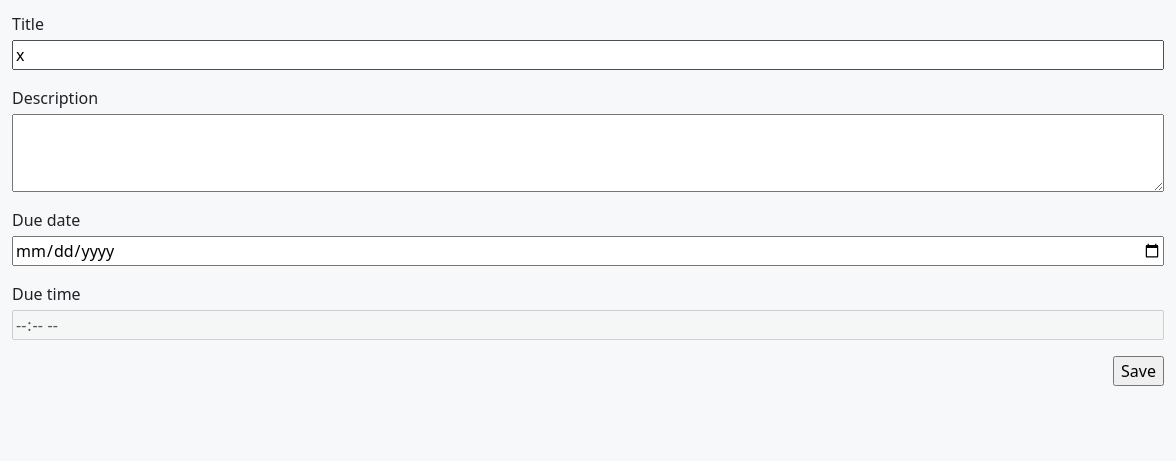
Test case: TodoForm › shows an API error without field errors as a general error
Click the button "Save".
click(1139, 371)  # box [1113,356,1164,386]
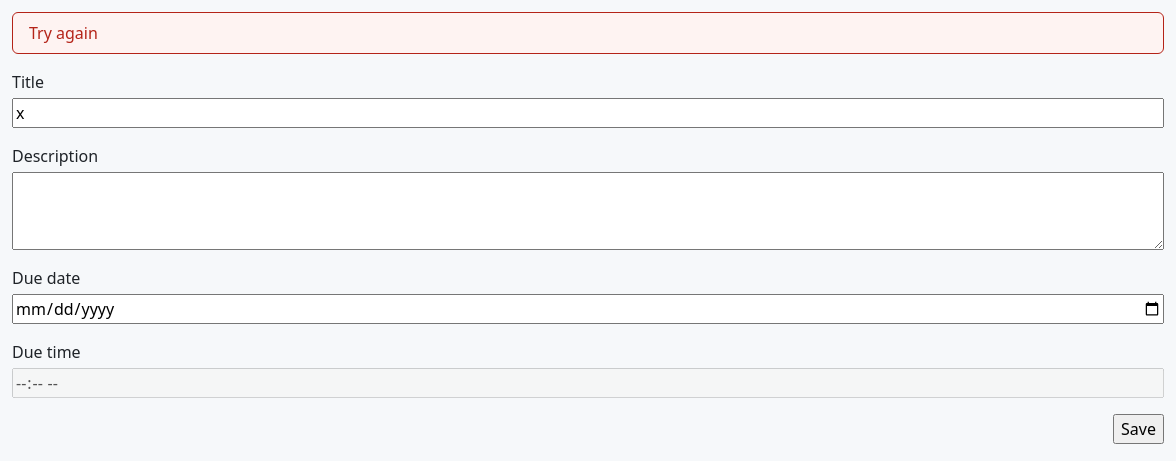
Check: the message reads "Try again", box [29,22,98,44]
